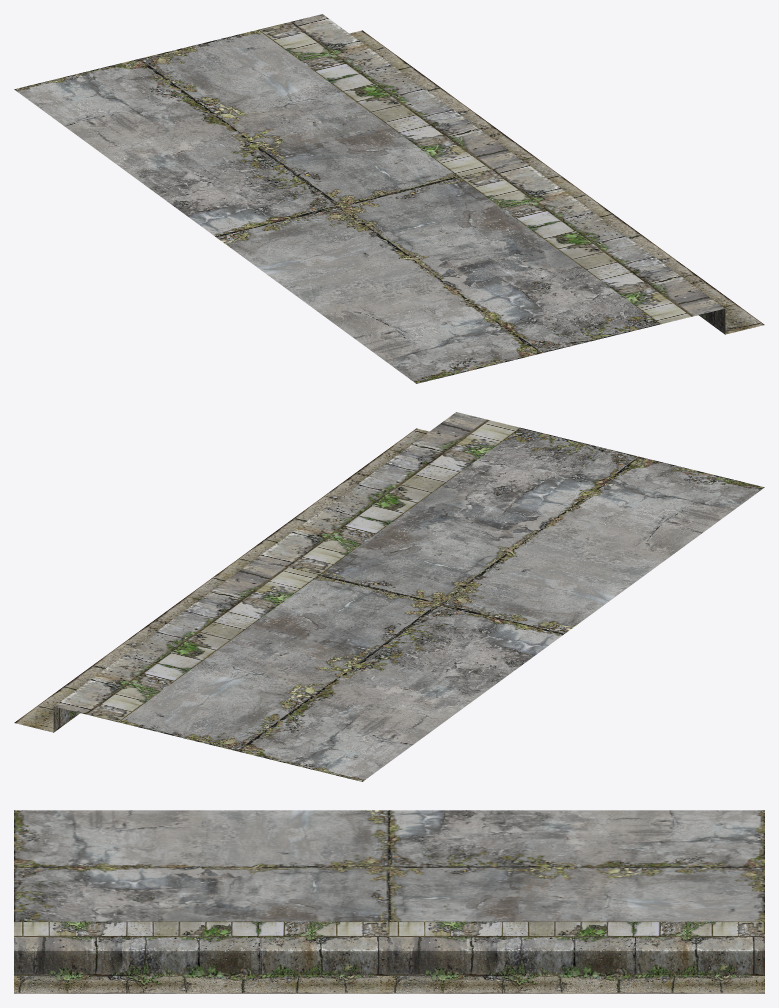
Rendered from Sidewalk2_LongA.FBX.
The picture shows the model from 3 angles, top to bottom: view 1: azimuth 30°, elevation 25°; view 2: azimuth 150°, elevation 25°; view 3: azimuth 270°, elevation 25°; orthographic projection. The views are drawn at different scales.
Parts seen in each view (by area): view 1: Sidewalk2_LongA; view 2: Sidewalk2_LongA; view 3: Sidewalk2_LongA.
Part boxes in pixels (<box>): Sidewalk2_LongA: <box>14,14,764,383</box>; Sidewalk2_LongA: <box>14,412,764,781</box>; Sidewalk2_LongA: <box>14,810,764,993</box>.
Size of the model in its own units: 350 by 25 by 700.
2 materials, 2 textured.
